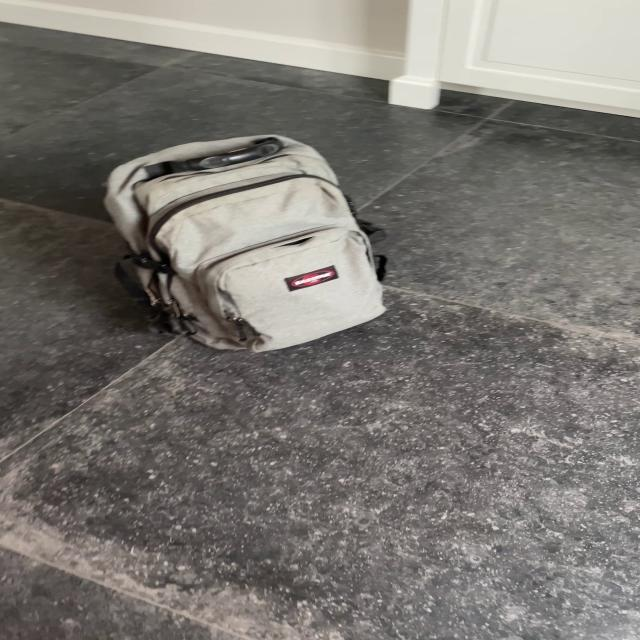backpack: (91, 128, 396, 356)
